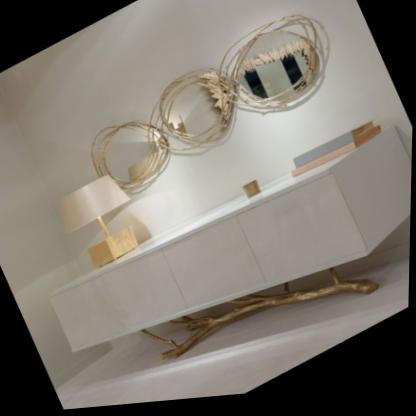Sideboard: (49, 132, 413, 363)
